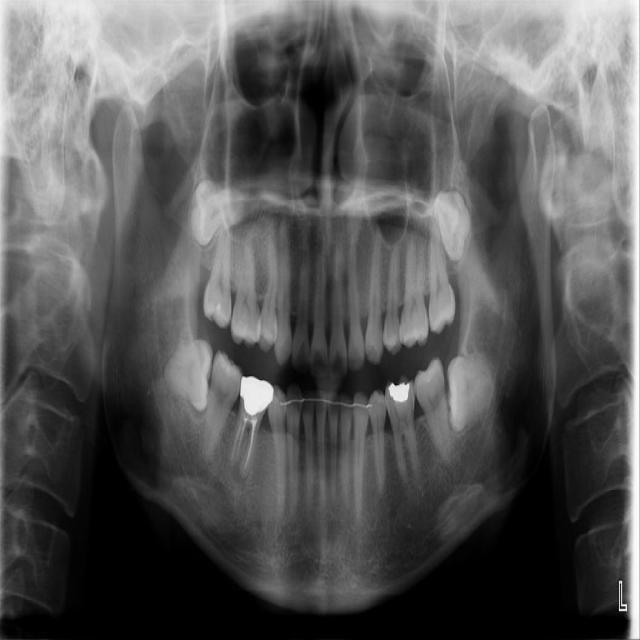Filling: (239, 376, 275, 424), (385, 373, 415, 430)
Periapical lesion: (231, 458, 249, 488), (417, 467, 429, 492)
Root Canal Treatment: (246, 420, 256, 467), (238, 418, 248, 452), (232, 424, 240, 460)
impacted tooth: (164, 339, 213, 414)
